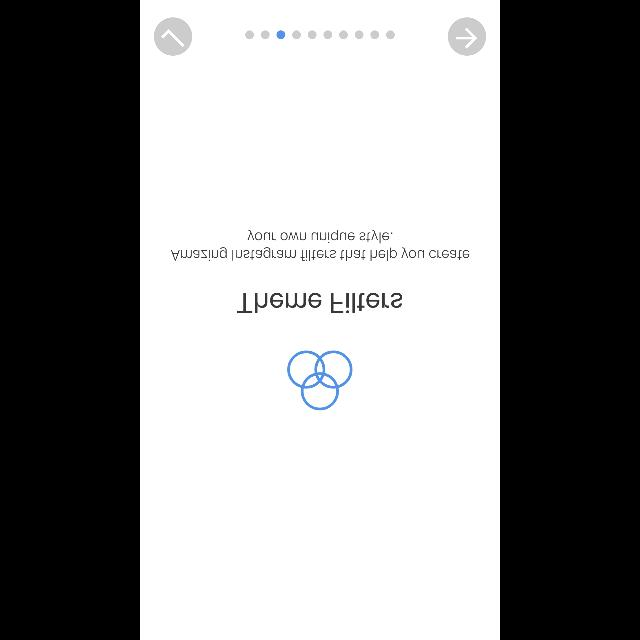icon: (448, 18, 486, 56), (154, 18, 192, 56)
image: (288, 350, 352, 410)
pageindicator: (246, 31, 394, 39)
text: (171, 230, 469, 260), (238, 293, 402, 313)
